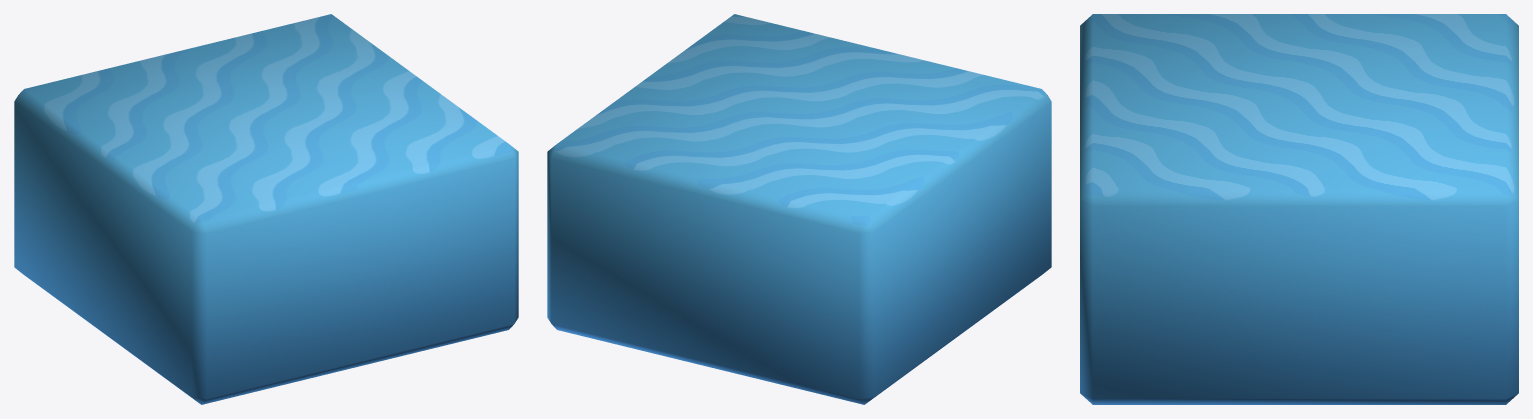
Rendered from water_top_4x4_deep.fbx.
The picture shows the model from 3 angles, left to right: view 1: azimuth 30°, elevation 25°; view 2: azimuth 150°, elevation 25°; view 3: azimuth 270°, elevation 25°; orthographic projection. The views are drawn at different scales.
Parts seen in each view (by area): view 1: water_top_4x4_deep; view 2: water_top_4x4_deep; view 3: water_top_4x4_deep.
Part boxes in pixels (bbox=[...]): water_top_4x4_deep: bbox=[14, 14, 518, 404]; water_top_4x4_deep: bbox=[547, 14, 1051, 404]; water_top_4x4_deep: bbox=[1080, 14, 1518, 404].
Bounding box in the file's own units: 425 × 231 × 425.
